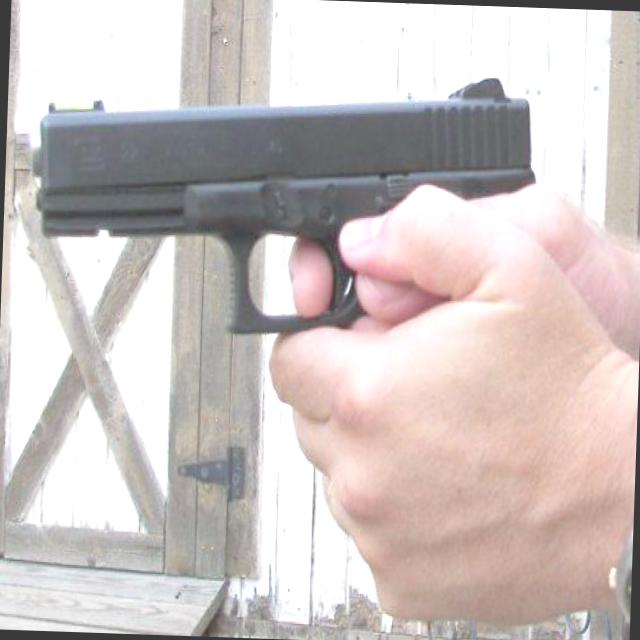handgun: (24, 56, 533, 344)
